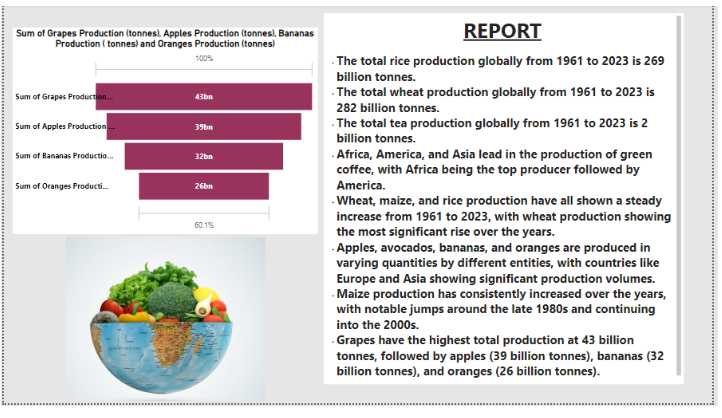

This screenshot's page, from the dashboard's own definition file:
{"tool":"powerbi","page":{"name":"Page 2","canvas":[1280,720],"ordinal":1},"visuals":[{"type":"funnel","fields":{"Y":["Sum(world food production.Grapes  Production (tonnes))","Sum(world food production.Apples Production (tonnes))","Sum(world food production.Bananas  Production ( tonnes))","Sum(world food production.Oranges  Production (tonnes))"]},"box":[0,0,547,720],"z":0},{"type":"textbox","box":[547,0,733,720],"z":2000}]}

Visuals, with their boxes in screenshot pixels (x1, y1, x2, y2), scaled from the page's 1280x720 canvas onto the 722x418 screenshot:
funnel - Sum(world food production.Grapes  Production (tonnes)) x Sum(world food production.Apples Production (tonnes)): bbox(0, 0, 309, 417)
textbox: bbox(309, 0, 721, 417)
